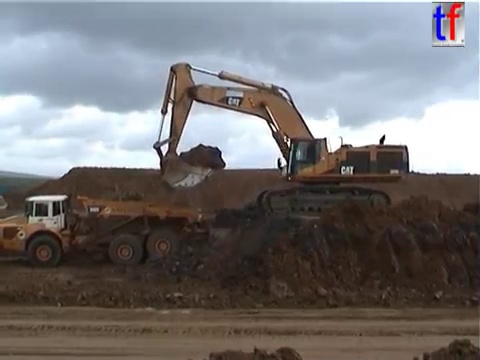excavator: (151, 60, 412, 221)
truck: (1, 191, 217, 269)
